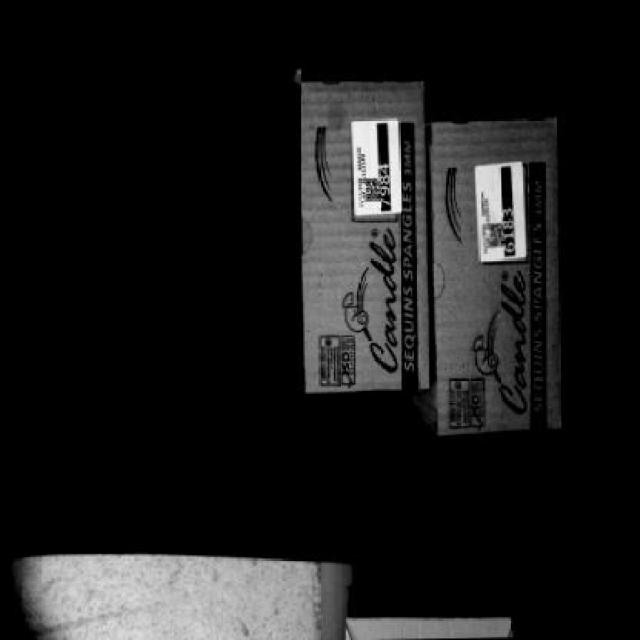cardboxes: (299, 83, 427, 406), (436, 121, 566, 433)
